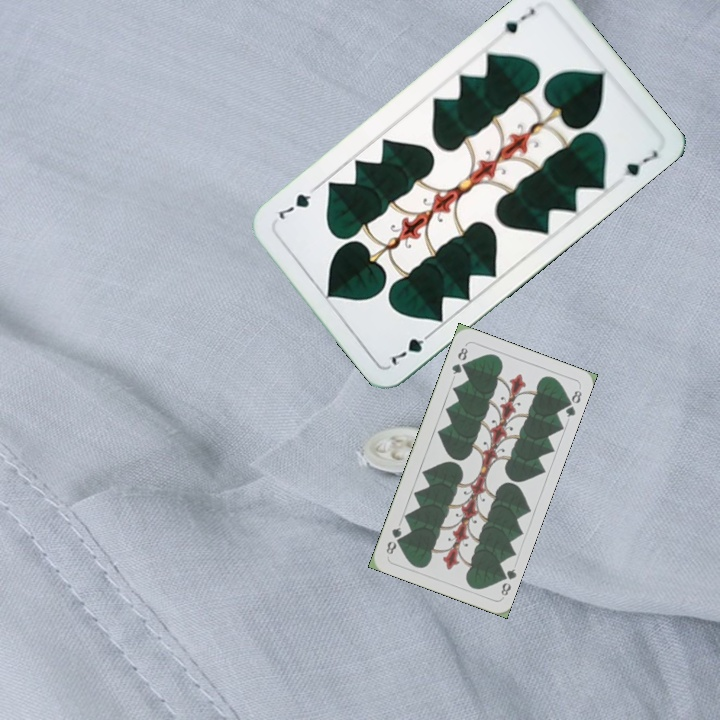G7: (386, 327, 437, 368), (493, 4, 538, 40)
G8: (495, 564, 519, 598), (448, 343, 470, 377)
